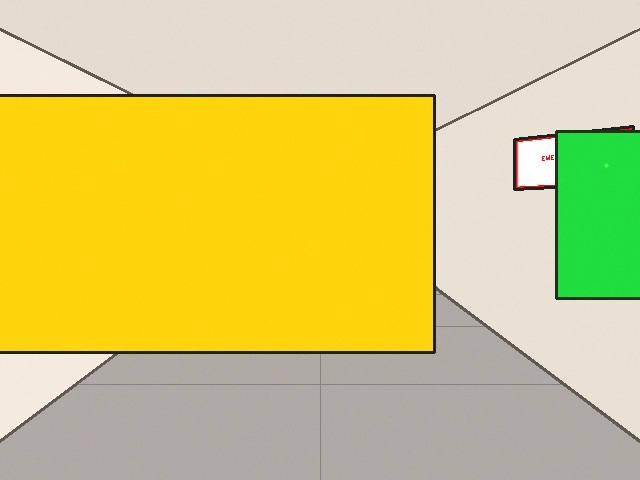charging_station: (556, 131, 639, 298)
directional_sign: (514, 126, 633, 189)
forklift: (0, 95, 434, 352)
hospital_bed: (322, 201, 434, 278)
